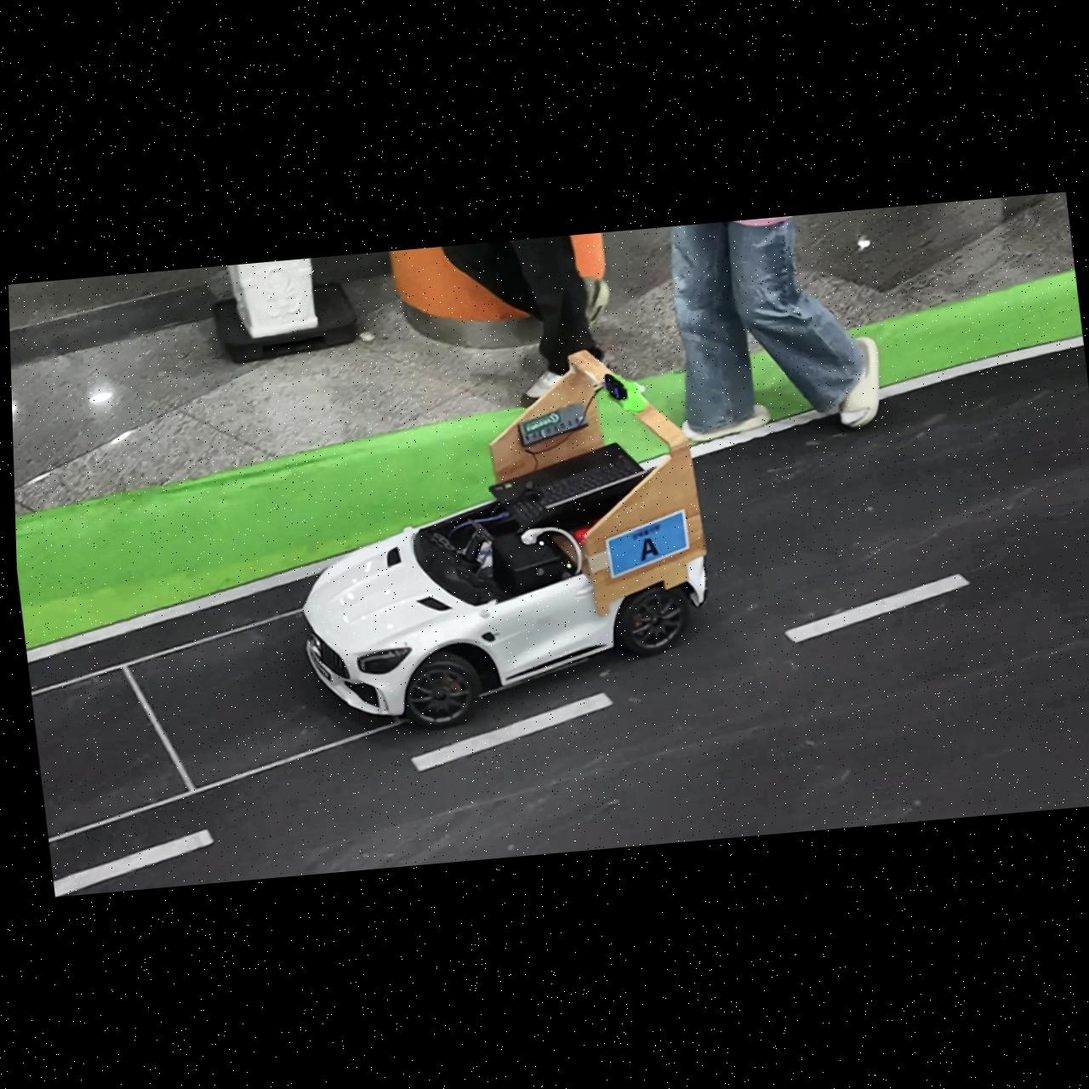broken_line: (410, 692, 614, 772), (784, 573, 971, 643), (53, 829, 215, 897)
